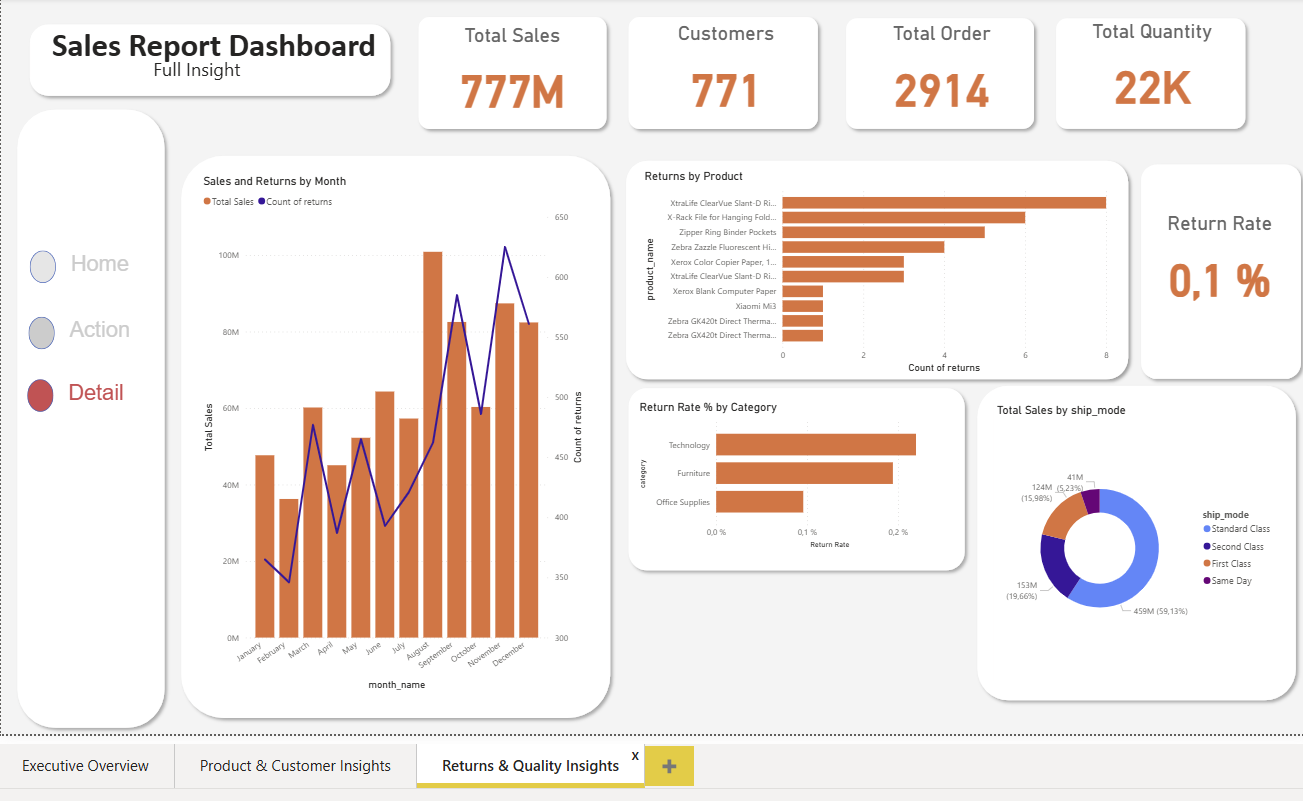

This screenshot's page, from the dashboard's own definition file:
{"tool":"powerbi","page":{"name":"Returns & Quality Insights","canvas":[1280,720],"ordinal":2},"visuals":[{"type":"barChart","fields":{"Y":["CountNonNull(sales_clean.returns)"],"Category":["sales_clean.product_name"]},"box":[42.9,149.3,593,304.1],"z":0},{"type":"slicer","fields":{"Values":["sales_clean.category"]},"box":[6.9,15.2,206,80.2],"z":1000},{"type":"slicer","fields":{"Values":["sales_clean.sub-category"]},"box":[226.7,15.2,230.8,80.2],"z":2000},{"type":"slicer","fields":{"Values":["sales_clean.region"]},"box":[482.4,18,153.4,80.2],"z":3000},{"type":"slicer","fields":{"Values":["sales_clean.customer_segment"]},"box":[659.4,20.7,334.5,84.3],"z":4000},{"type":"slicer","fields":{"Values":["sales_clean.month_name"]},"box":[993.9,20.7,268.2,74.6],"z":5000},{"type":"barChart","fields":{"Category":["sales_clean.category"],"Y":["sales_clean.Return Rate"]},"box":[58.1,478.3,581.9,219.8],"z":6000},{"type":"lineClusteredColumnComboChart","fields":{"Category":["sales_clean.month_name"],"Y":["sales_clean.Total Sales"],"Y2":["CountNonNull(sales_clean.returns)"]},"box":[707.7,149.3,544.6,548.8],"z":6001}]}

Visuals, with their boxes on the page's 1280x720 design canvas (x1, y1, x2, y2). These are canvas units, not pixel positions in the 1303x801 screenshot, which may show the page scaled, cropped or inside an application window:
barChart - CountNonNull(sales_clean.returns) x sales_clean.product_name: <region>43, 149, 636, 453</region>
slicer - sales_clean.category: <region>7, 15, 213, 95</region>
slicer - sales_clean.sub-category: <region>227, 15, 458, 95</region>
slicer - sales_clean.region: <region>482, 18, 636, 98</region>
slicer - sales_clean.customer_segment: <region>659, 21, 994, 105</region>
slicer - sales_clean.month_name: <region>994, 21, 1262, 95</region>
barChart - sales_clean.category x sales_clean.Return Rate: <region>58, 478, 640, 698</region>
lineClusteredColumnComboChart - sales_clean.month_name x sales_clean.Total Sales: <region>708, 149, 1252, 698</region>
